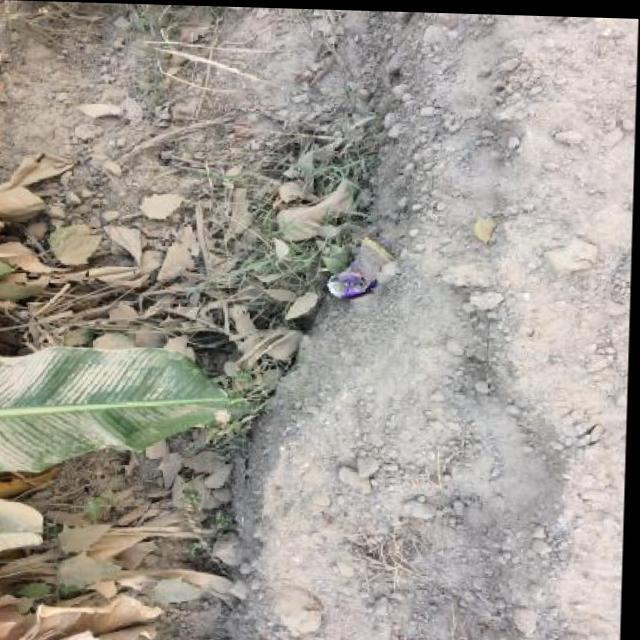plastic: (327, 235, 400, 301)
